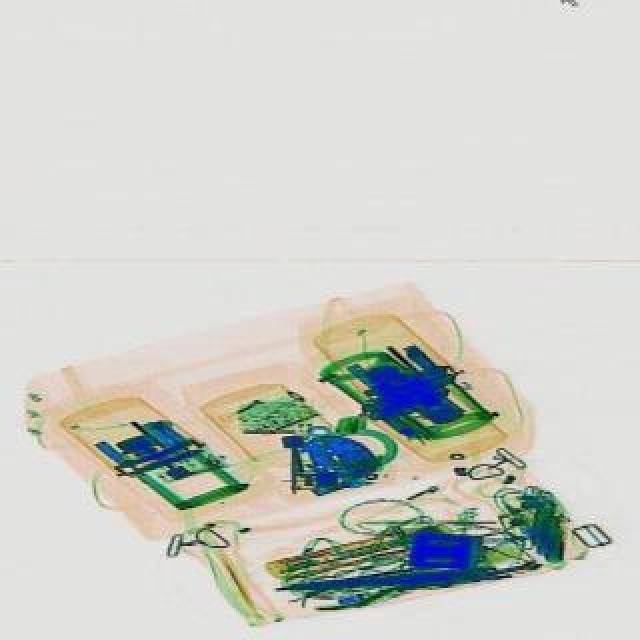wrench: (294, 562, 450, 616)
